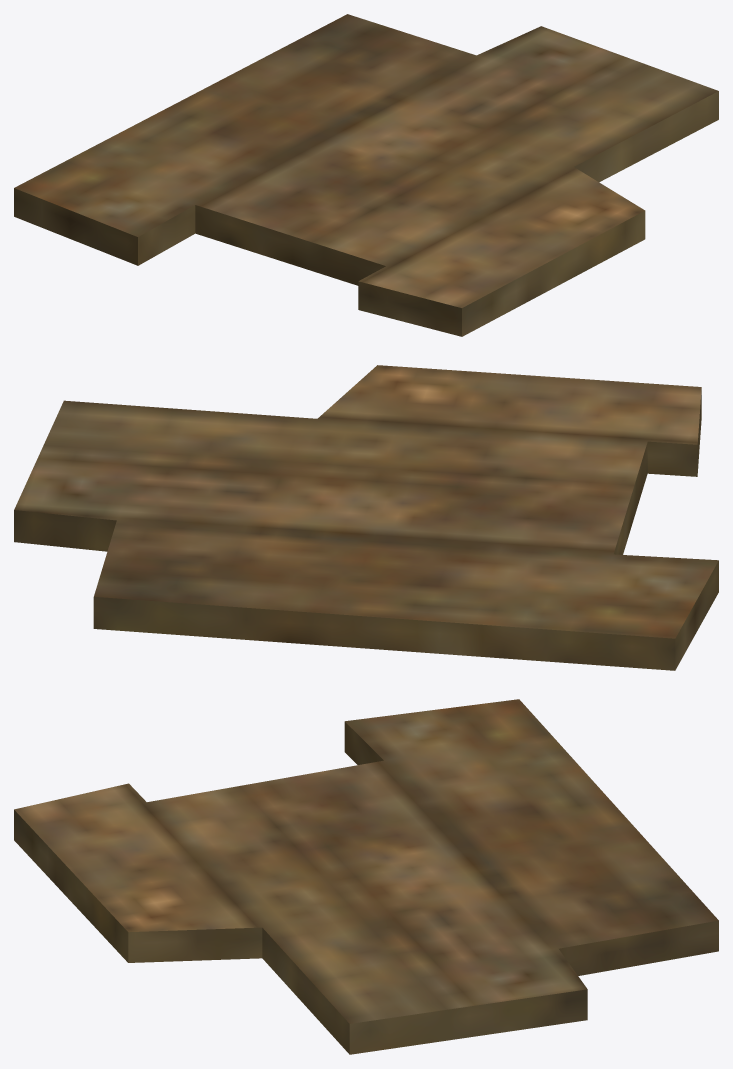
File: 5b845ba8-d976-49b5-ae8d-9cddbf4e9b57.glb
The picture shows the model from 3 angles, top to bottom: view 1: azimuth 30°, elevation 25°; view 2: azimuth 150°, elevation 25°; view 3: azimuth 270°, elevation 25°; orthographic projection. The views are drawn at different scales.
Parts seen in each view (by area): view 1: WoodDecor02; view 2: WoodDecor02; view 3: WoodDecor02.
Boxes of the visible parts, bbox=[...] form: WoodDecor02: bbox=[14, 14, 718, 336]; WoodDecor02: bbox=[14, 365, 718, 670]; WoodDecor02: bbox=[14, 699, 718, 1054].
Size of what is drawn, in the model's own units: 1.14 by 0.0539 by 1.04.
Materials: 1 (1 with a texture image).
